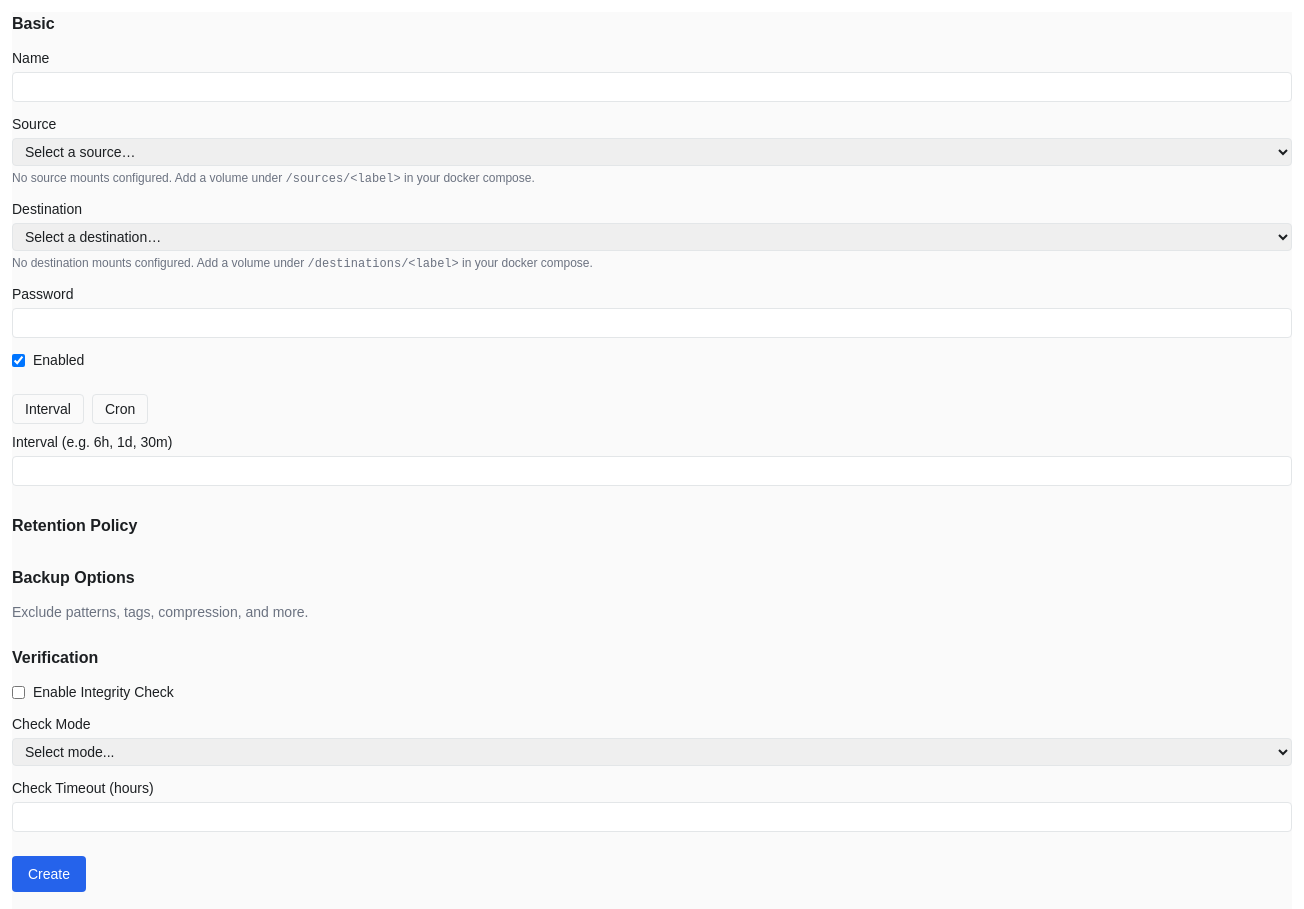
Scenario: JobForm › collapsible sections › expands Retention Policy section on click
Click the button "Retention Policy". click: click(75, 526)
box: [12,510,1292,542]
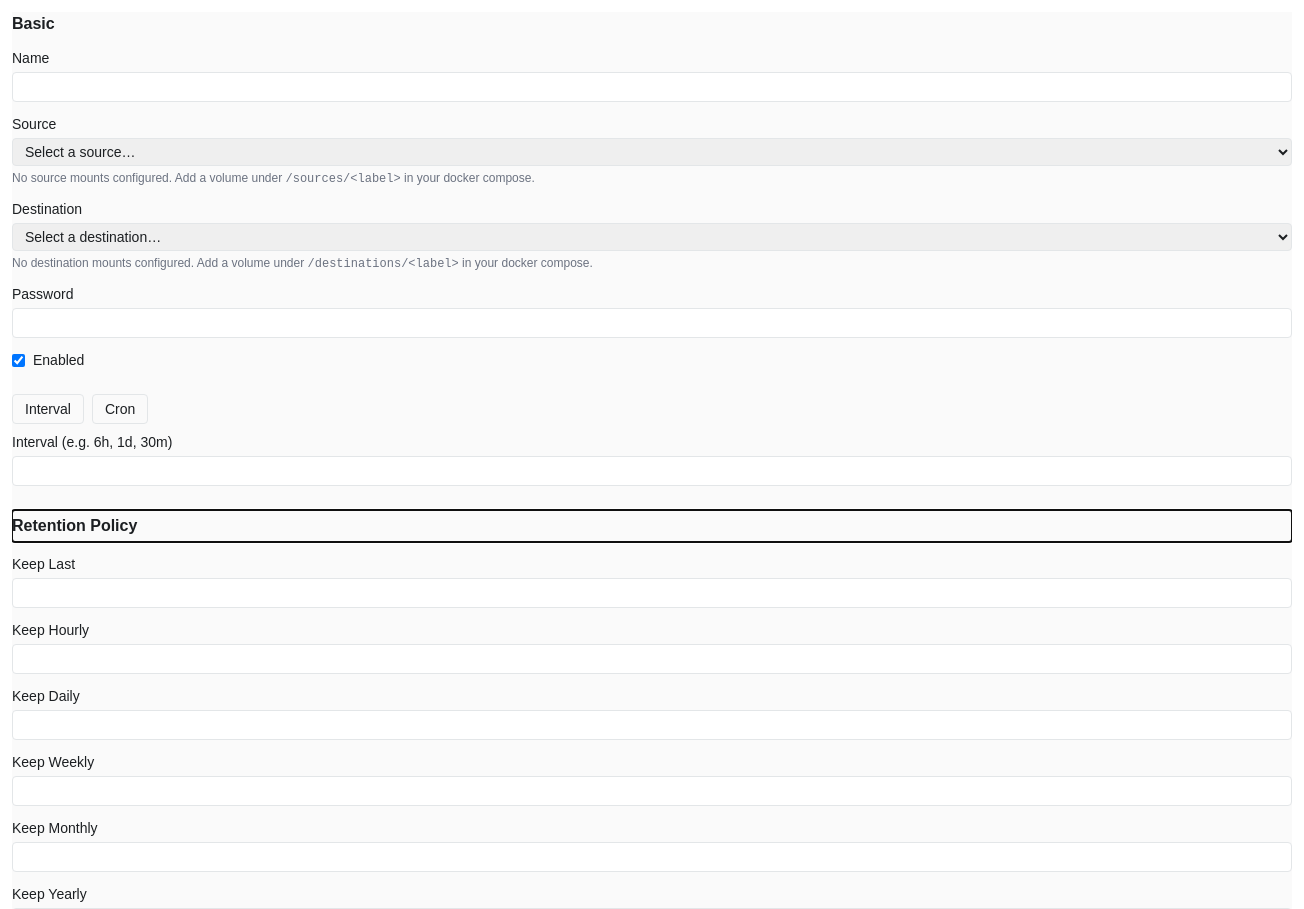
Result: the number field labelled "Keep Last" is shown at [12,578,1292,608]
